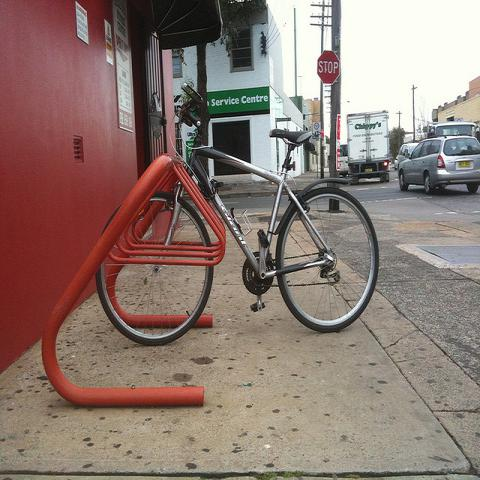car: (398, 136, 480, 194), (394, 143, 420, 171), (339, 144, 349, 177)
truck: (348, 114, 390, 186)
